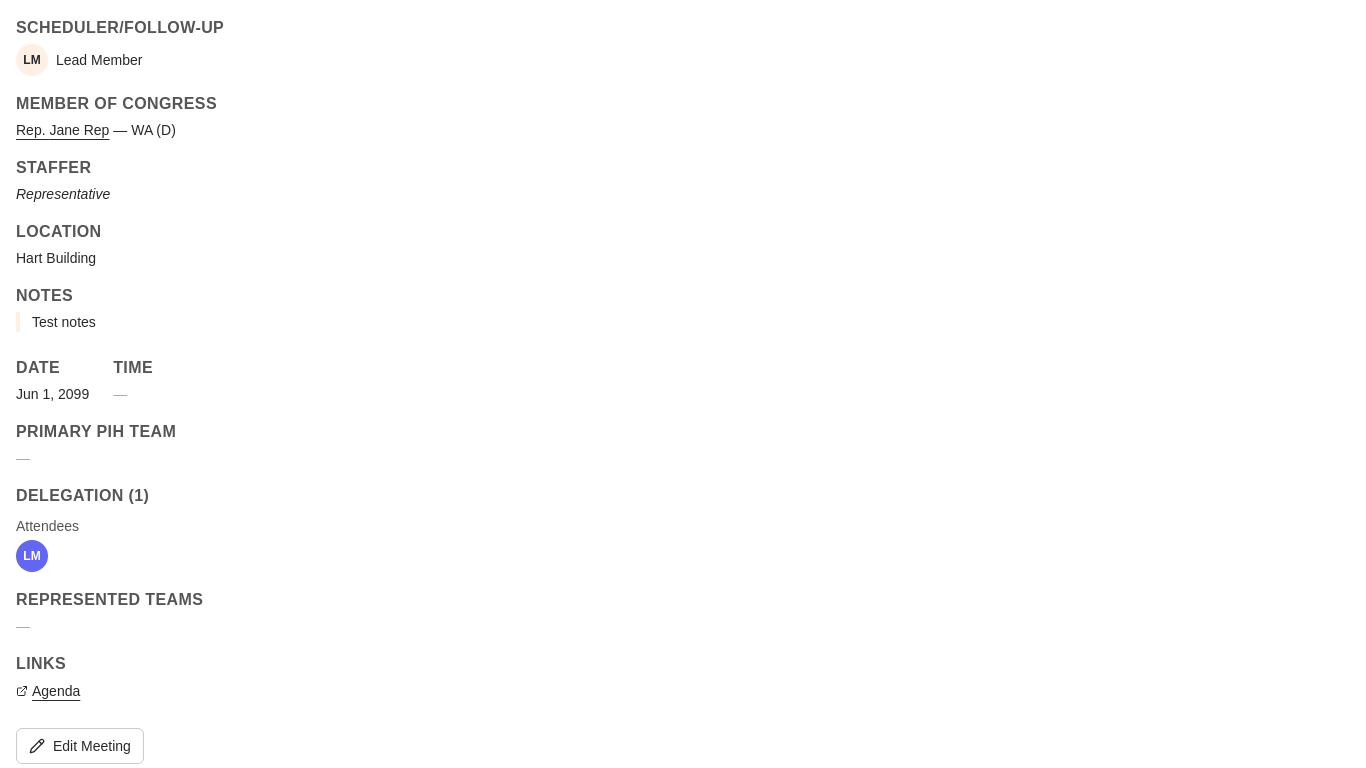
MeetingDetail — delete › hides the Delete button from a member who is neither admin nor lead
Click the button "Edit Meeting" at {"x": 80, "y": 746}, box [16, 728, 144, 764]
(page scrolled)
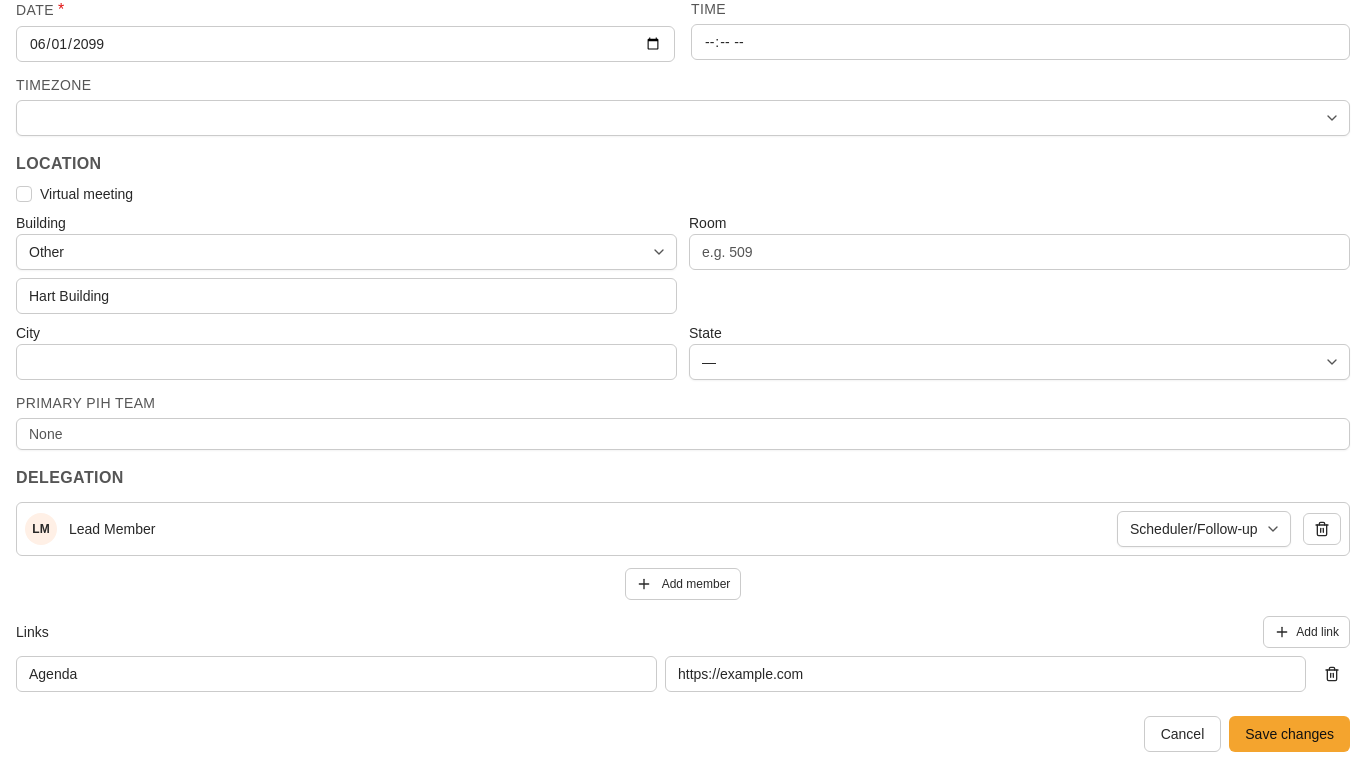
Now the button "Save changes" is shown, box [1229, 716, 1350, 752]
